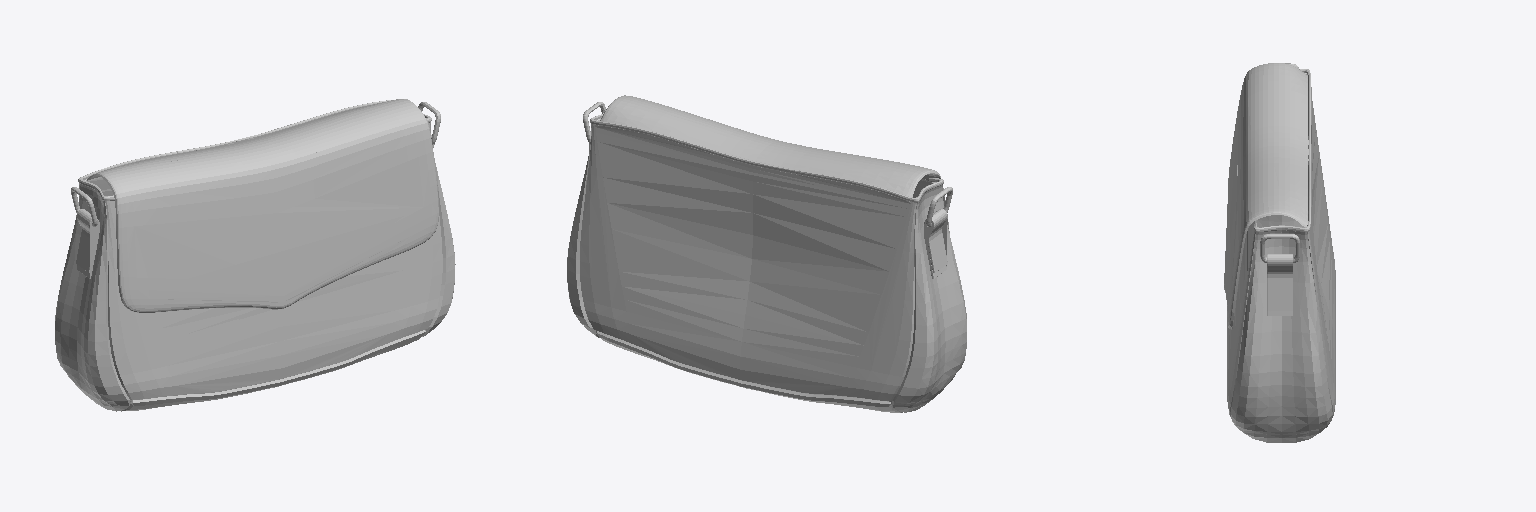
3 renders of one model, left to right at view 1: azimuth 30°, elevation 25°; view 2: azimuth 150°, elevation 25°; view 3: azimuth 270°, elevation 25°, orthographic.
Visible parts, largest first — view 1: handbag_Куб.001; view 2: handbag_Куб.001; view 3: handbag_Куб.001.
Part boxes in pixels (x1,y1,x2,y2): handbag_Куб.001: (55, 99, 455, 411); handbag_Куб.001: (567, 95, 966, 412); handbag_Куб.001: (1224, 63, 1335, 442).
Size of the model in its own units: 26.15 by 16.16 by 6.93.